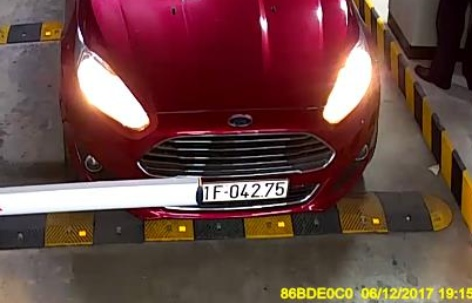plate: (201, 174, 295, 207)
